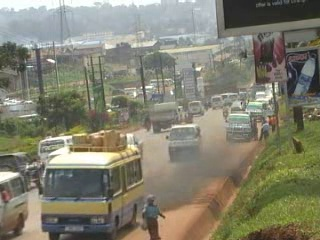Car: (0, 148, 48, 192), (121, 130, 146, 161), (229, 98, 246, 113)
Motorcycle: (139, 115, 152, 135), (181, 109, 194, 127), (220, 102, 230, 125), (204, 96, 212, 112)
